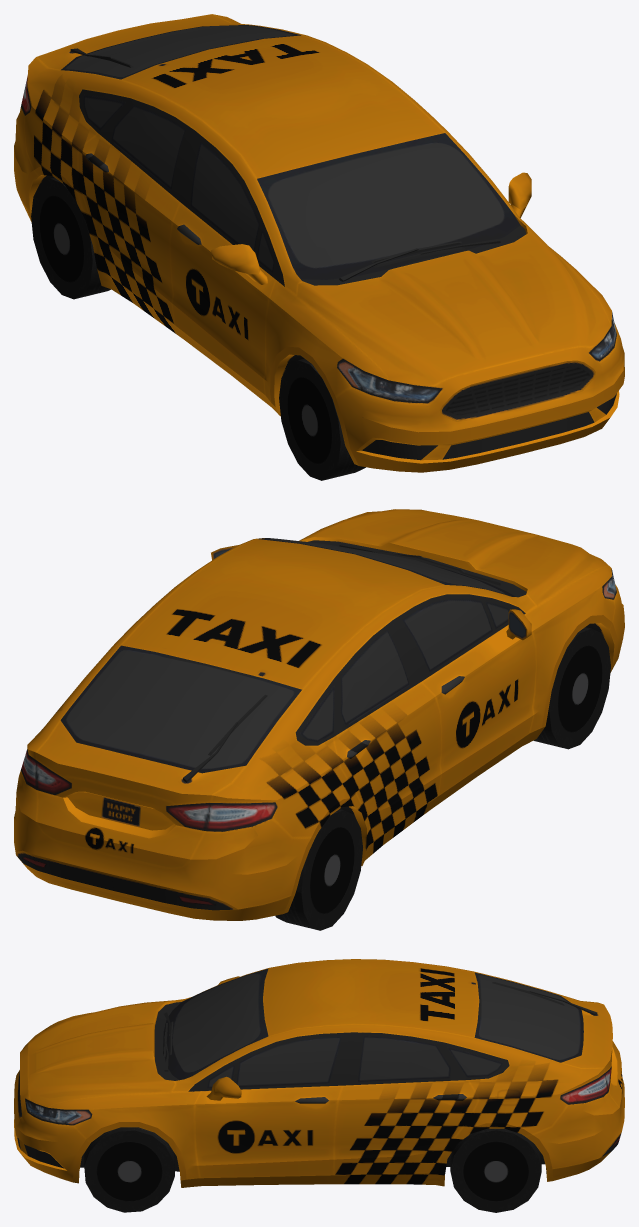
File: car 4.fbx
3 views of the same model, one above another, from view 1: azimuth 30°, elevation 25°; view 2: azimuth 150°, elevation 25°; view 3: azimuth 270°, elevation 25° (orthographic). The views are drawn at different scales.
Parts seen in each view (by area): view 1: body, t_R_F, t_R_B; view 2: body, t_R_B, t_R_F; view 3: body, t_L_F, t_L_B.
Part boxes in pixels (x1,y1,x2,y2): body: (14,14,624,472); t_R_F: (279,358,365,480); t_R_B: (31,177,110,299); body: (14,509,624,920); t_R_B: (275,809,362,930); t_R_F: (533,627,610,749); body: (14,959,624,1187); t_L_F: (84,1127,174,1212); t_L_B: (450,1128,541,1212).
Size of the model in its own units: 85.68 by 61.51 by 194.
